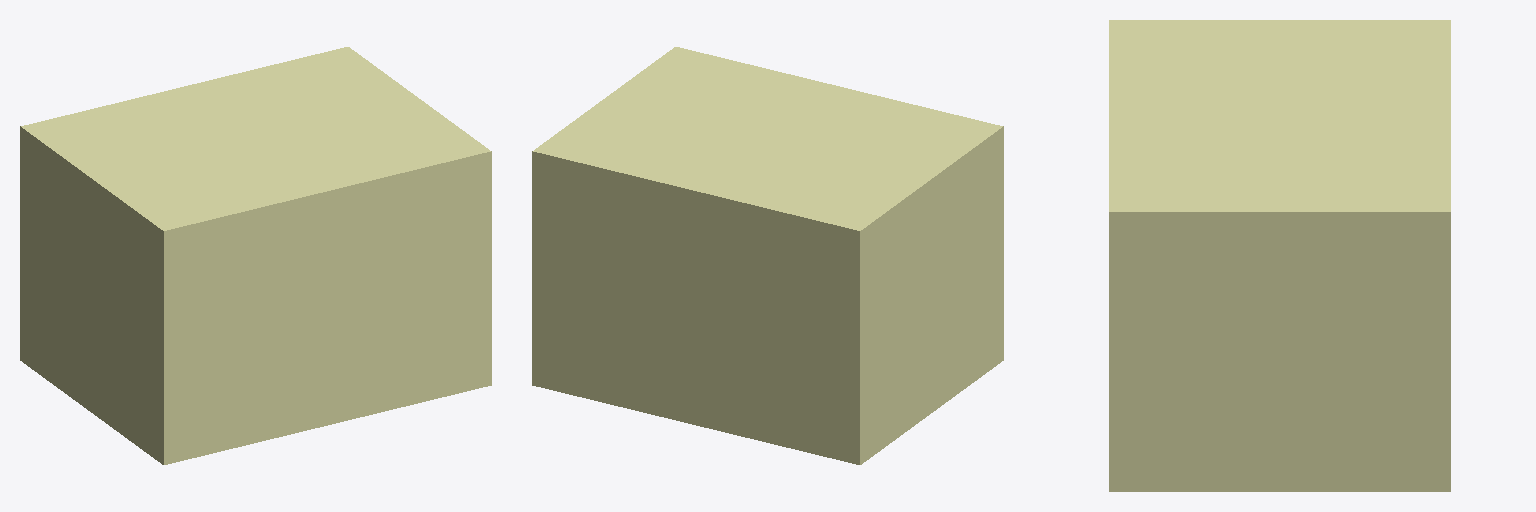
The robot description file, URDF, robot "box.urdf":
<?xml version="1.0" ?>
<robot name="box.urdf">
  <link name="baseLink">
    <contact>
      <lateral_friction value="1.0"/>
      <rolling_friction value="0.0001"/>
      <inertia_scaling value="3.0"/>
    </contact>
    <inertial>
      <origin rpy="0 0 0" xyz="0 0 0"/>
       <mass value="0.1"/>
       <inertia ixx="1" ixy="0" ixz="0" iyy="1" iyz="0" izz="1"/>
    </inertial>
    <visual>
      <origin rpy="0 0 0" xyz="0 0 0"/>
      <geometry>
        <!-- <box size="0.353 0.267 0.24100000000000002"/> -->
        <mesh filename="box/box.obj" scale="0.353 0.267 0.24100000000000002"/>
      </geometry>
      <material name="white">
        <color rgba="0.9 0.9 0.7 1"/>
      </material>
    </visual>
    <collision>
      <origin rpy="0 0 0" xyz="0 0 0"/>
      <geometry>
        <mesh filename="box/box.obj" scale="0.353 0.267 0.24100000000000002"/>
	 	    <!-- <box size="0.353 0.267 0.24100000000000002"/> -->
      </geometry>
    </collision>
  </link>
</robot>

--- What the picture shows (computed from the rendered views, not written in the file) ---
3 views of the same robot in one strip: view 1: azimuth 30°, elevation 25°; view 2: azimuth 150°, elevation 25°; view 3: azimuth 270°, elevation 25° (orthographic).
Robot: box.urdf — 1 links, 0 joints (none); root link baseLink; default pose: all joints at 0.
Visible links, largest first — view 1: baseLink; view 2: baseLink; view 3: baseLink.
Boxes of the visible links, x1,y1,x2,y2 form: baseLink: (20, 47, 491, 464); baseLink: (532, 47, 1003, 464); baseLink: (1109, 20, 1450, 491).
Size in the robot's own frame: 0.353 by 0.267 by 0.241 metres.
1 mesh visuals loaded from 1 distinct referenced files (1 OBJ).
